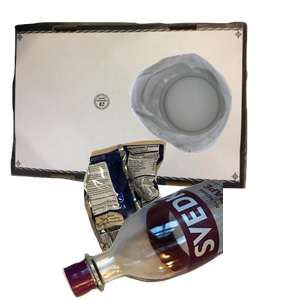cardboard: (10, 19, 250, 199)
glass: (60, 180, 300, 300)
plastic: (127, 51, 300, 197)
trash: (81, 137, 280, 300)
